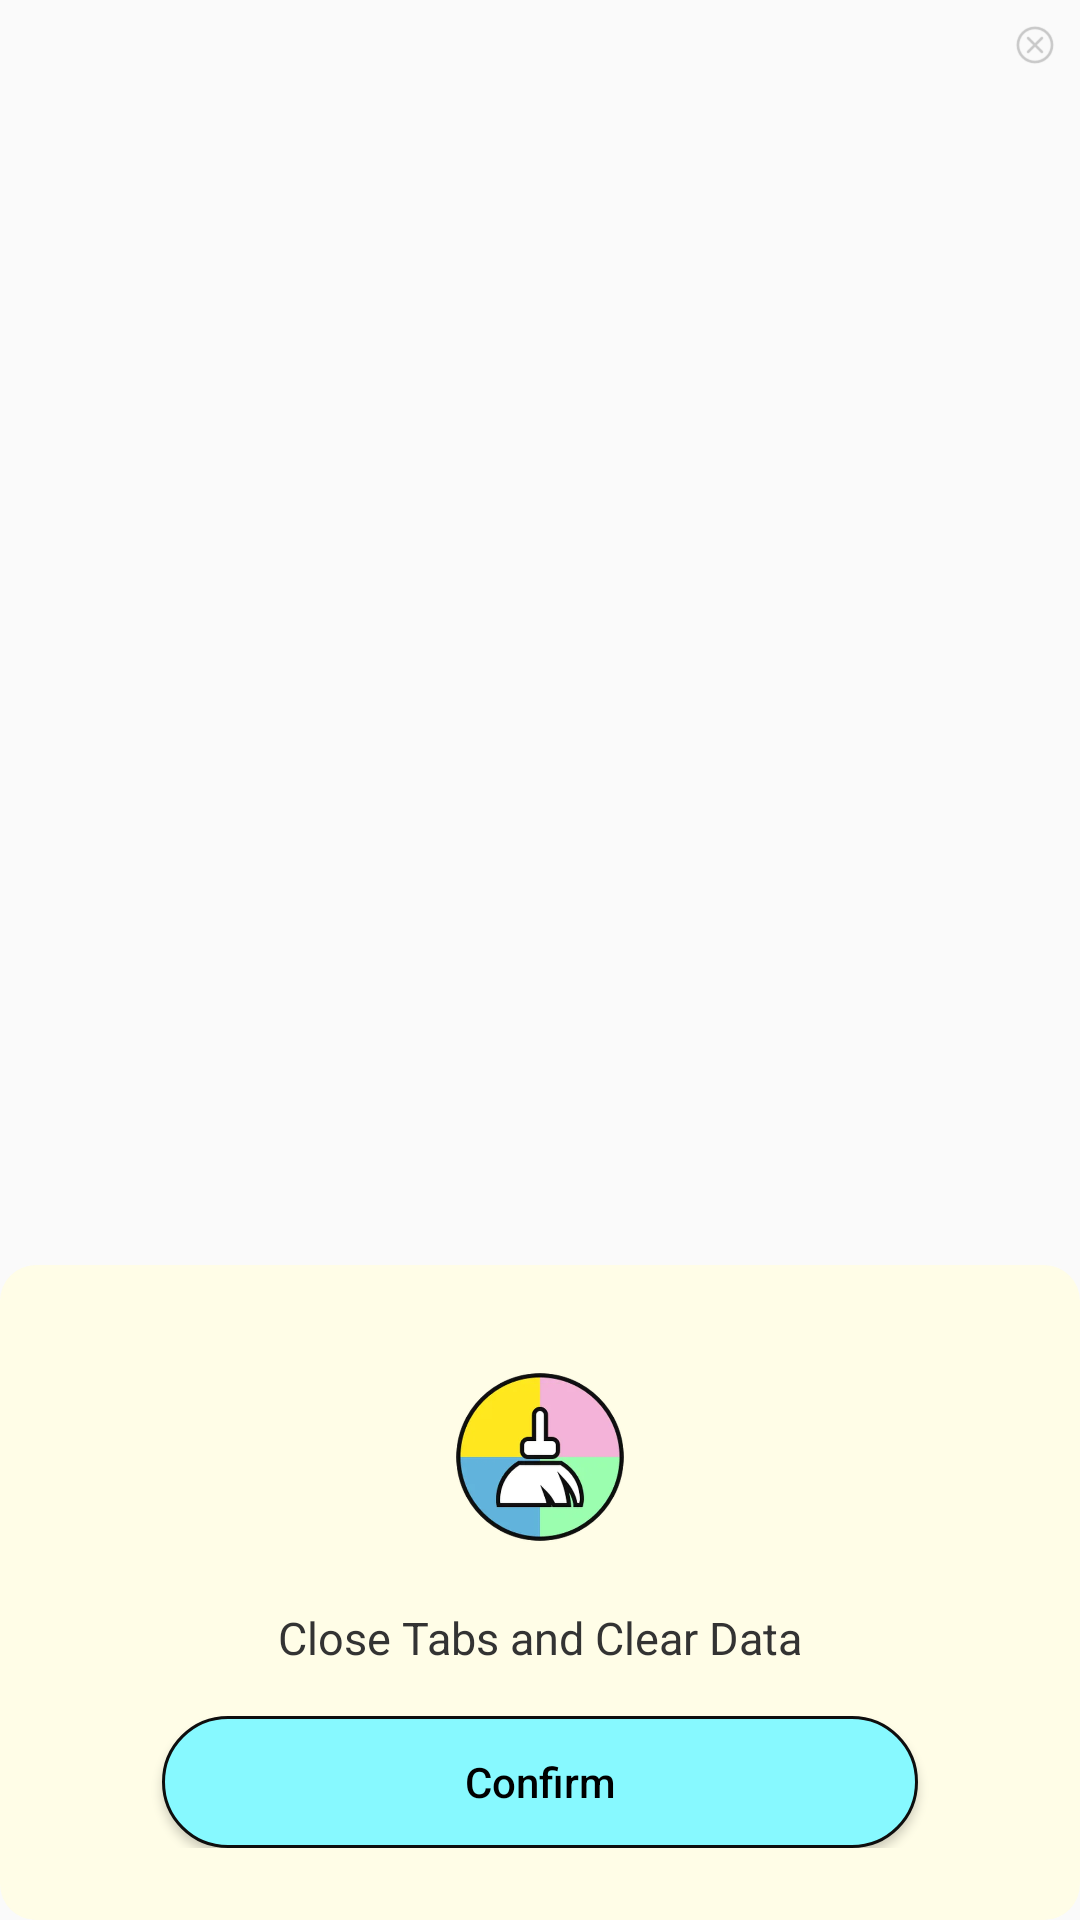

Point at icon controls on the screen. Image size 1080 x 1920, points as (x=x, y=y).
clean: (x=540, y=1457)
close: (x=1035, y=45)
